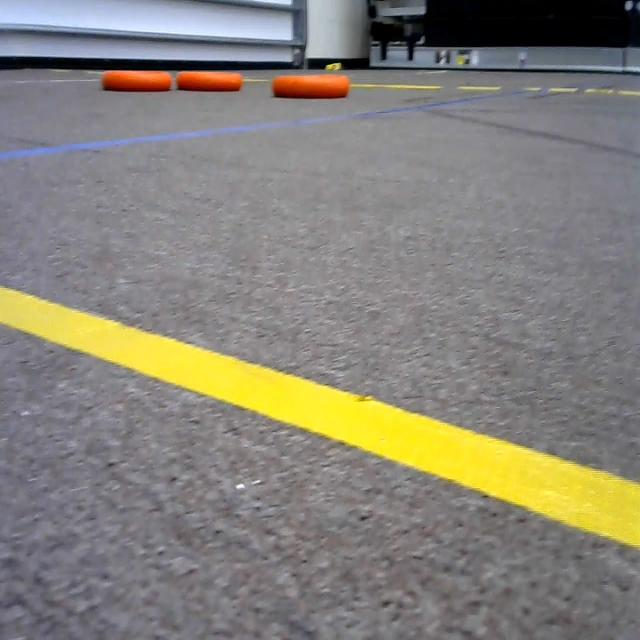note: (103, 54, 174, 108), (272, 66, 359, 102), (171, 67, 246, 97)
